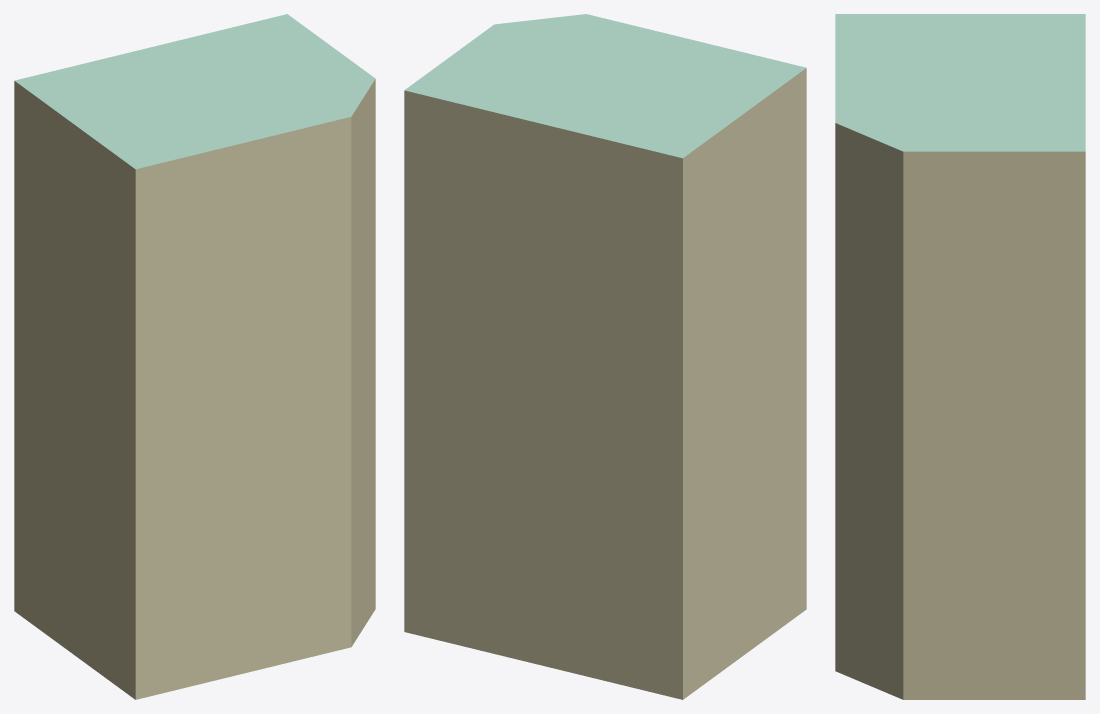
Rendered from shell.glb.
3 views of the same model, side by side, from view 1: azimuth 30°, elevation 25°; view 2: azimuth 150°, elevation 25°; view 3: azimuth 270°, elevation 25° (orthographic). The views are drawn at different scales.
Parts seen in each view (by area): view 1: interior:urbe/facade/standard, interior:urbe/concrete/standard; view 2: interior:urbe/facade/standard, interior:urbe/concrete/standard; view 3: interior:urbe/facade/standard, interior:urbe/concrete/standard.
Boxes of the visible parts, <box> form: interior:urbe/facade/standard: <box>14,79,375,699</box>; interior:urbe/concrete/standard: <box>15,14,375,169</box>; interior:urbe/facade/standard: <box>404,68,806,699</box>; interior:urbe/concrete/standard: <box>404,14,806,158</box>; interior:urbe/facade/standard: <box>835,123,1085,699</box>; interior:urbe/concrete/standard: <box>835,14,1085,151</box>.
Bounding box in the file's own units: 26 × 48.28 × 20.
